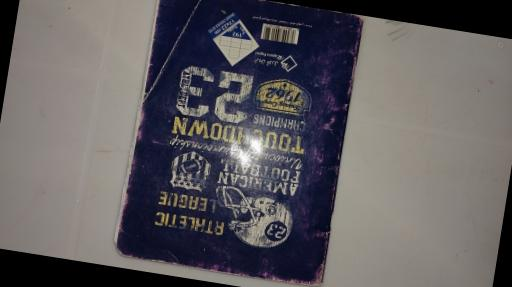notebook: (112, 0, 366, 287)
